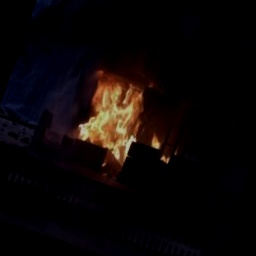fire: (76, 61, 171, 167)
